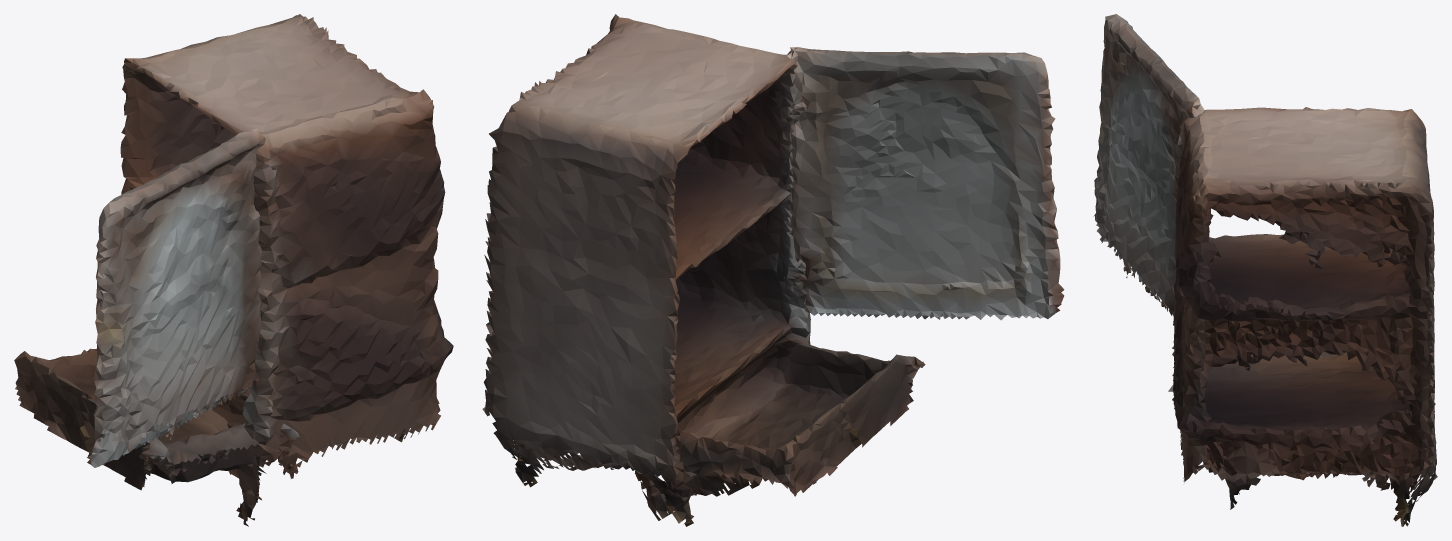
File: cab_1r_1p.glb
3 views of the same model, side by side, from view 1: azimuth 30°, elevation 25°; view 2: azimuth 150°, elevation 25°; view 3: azimuth 270°, elevation 25° (orthographic). The views are drawn at different scales.
Parts seen in each view (by area): view 1: part_0_aligned, part_2_aligned, part_1_aligned; view 2: part_0_aligned, part_2_aligned, part_1_aligned; view 3: part_0_aligned, part_2_aligned.
Part boxes in pixels (x1,y1,x2,y2): part_0_aligned: (120, 14, 453, 526); part_2_aligned: (87, 128, 266, 467); part_1_aligned: (14, 348, 299, 490); part_0_aligned: (482, 14, 810, 526); part_2_aligned: (783, 47, 1064, 320); part_1_aligned: (635, 344, 925, 520); part_0_aligned: (1172, 107, 1437, 526); part_2_aligned: (1093, 14, 1204, 315).
Bounding box in the file's own units: 0.9236 × 0.8579 × 0.7197.
